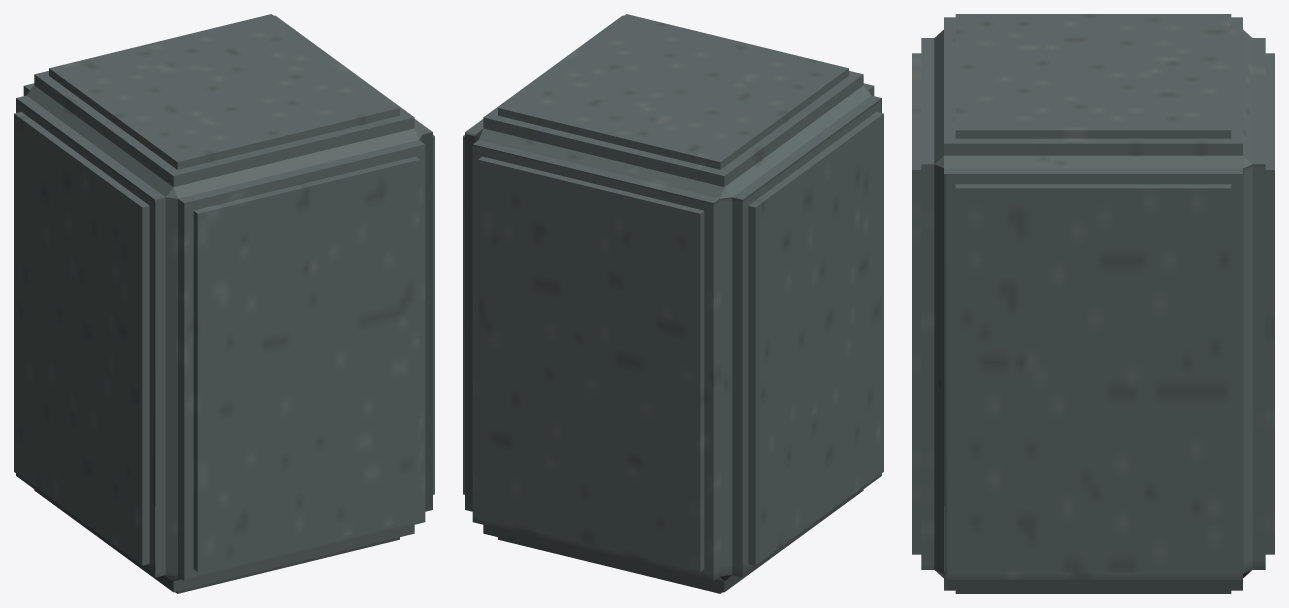
The model's file is Stone 2.fbx.
The picture shows the model from 3 angles, left to right: view 1: azimuth 30°, elevation 25°; view 2: azimuth 150°, elevation 25°; view 3: azimuth 270°, elevation 25°; orthographic projection. The views are drawn at different scales.
Parts seen in each view (by area): view 1: Stone 2; view 2: Stone 2; view 3: Stone 2.
Part boxes in pixels (<box>): Stone 2: <box>14,14,434,593</box>; Stone 2: <box>463,14,883,593</box>; Stone 2: <box>912,14,1274,593</box>.
Bounding box in the file's own units: 73.05 × 103 × 73.05.
Materials: 1 (1 with a texture image).
